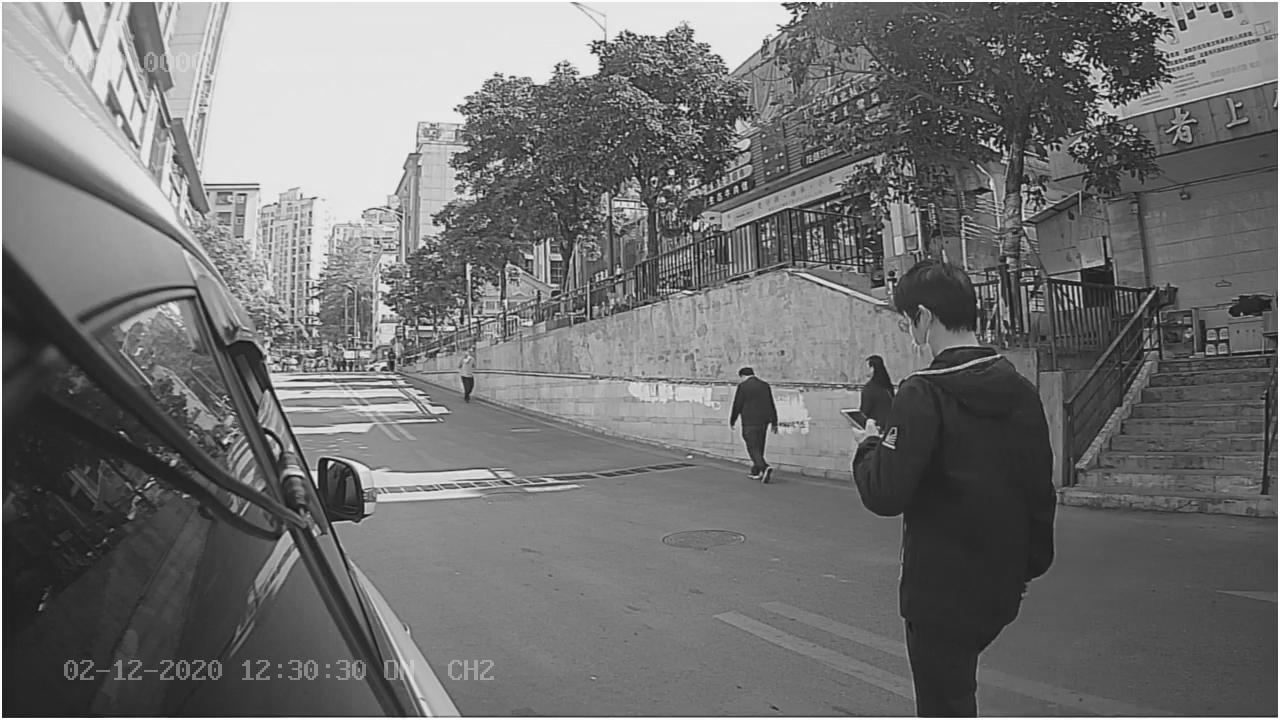person: (849, 259, 1058, 493), (710, 354, 793, 506)
